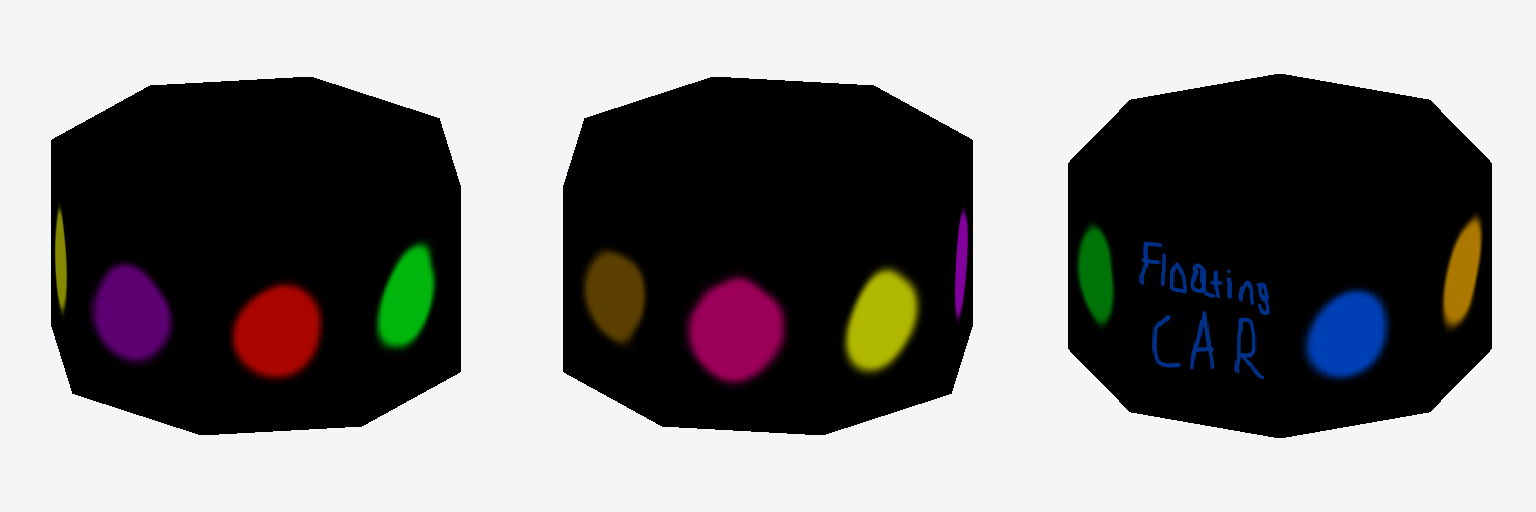
3 views of the same model, side by side, from view 1: azimuth 30°, elevation 25°; view 2: azimuth 150°, elevation 25°; view 3: azimuth 270°, elevation 25° (orthographic).
Visible parts, largest first — view 1: Cylinder; view 2: Cylinder; view 3: Cylinder.
Part boxes in pixels (left/top/right/bottom): Cylinder: left=51, top=77, right=460, bottom=434; Cylinder: left=563, top=77, right=972, bottom=434; Cylinder: left=1068, top=74, right=1491, bottom=437.
Bounding box in the file's own units: 2 × 0.9674 × 2.
1 materials, 1 textured.